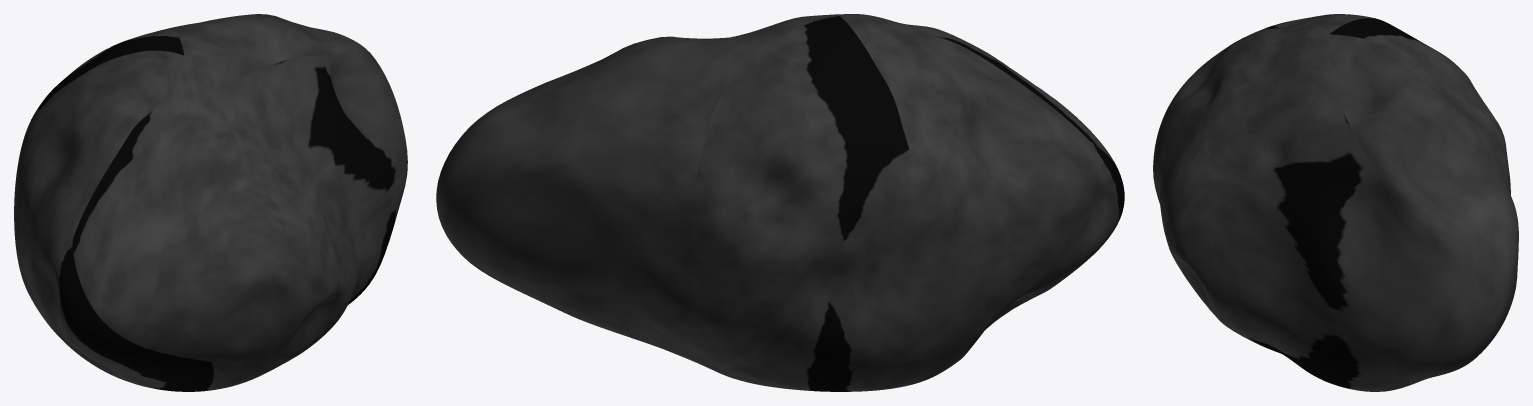
Rendered from asteroid6.fbx.
The picture shows the model from 3 angles, left to right: view 1: azimuth 30°, elevation 25°; view 2: azimuth 150°, elevation 25°; view 3: azimuth 270°, elevation 25°; orthographic projection. The views are drawn at different scales.
Visible parts, largest first — view 1: Icosphere; view 2: Icosphere; view 3: Icosphere.
Boxes of the visible parts, x1,y1,x2,y2 form: Icosphere: [14, 14, 407, 391]; Icosphere: [436, 14, 1124, 391]; Icosphere: [1153, 14, 1518, 391].
Size of the model in its own units: 2.95 by 1.93 by 2.12.
